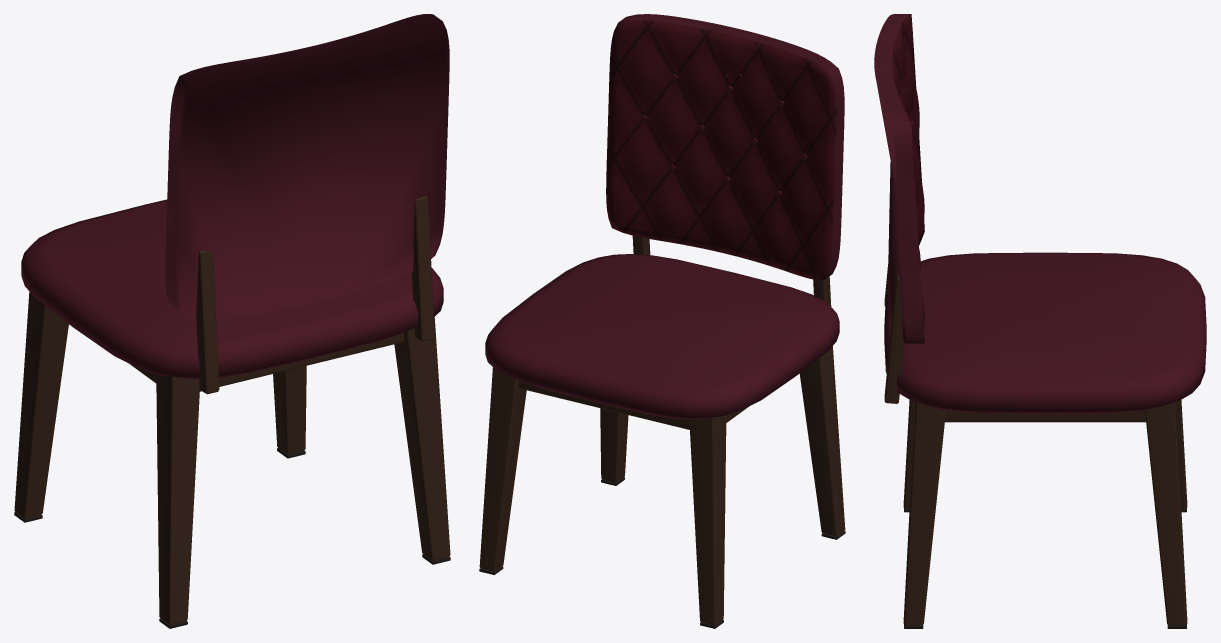
The model's file is cadeira_carteado_capitone.glb.
The picture shows the model from 3 angles, left to right: view 1: azimuth 30°, elevation 25°; view 2: azimuth 150°, elevation 25°; view 3: azimuth 270°, elevation 25°; orthographic projection. The views are drawn at different scales.
Parts seen in each view (by area): view 1: Encosto alto para -Y, Assento a 50 cm, Pe de madeira, Pe de madeira.002, Pe de madeira.001, Suporte de madeira do encosto, Pe de madeira.003, Suporte de madeira do encosto.001, Saia transversal; view 2: Encosto alto para -Y, Assento a 50 cm, Pe de madeira.001, Pe de madeira.003, Pe de madeira, Pe de madeira.002, Saia transversal.001; view 3: Assento a 50 cm, Encosto alto para -Y, Pe de madeira.002, Pe de madeira.003, Saia lateral.001, Suporte de madeira do encosto.001, Pe de madeira, Pe de madeira.001.
Boxes of the visible parts, x1,y1,x2,y2 form: Encosto alto para -Y: (165,14,449,319); Assento a 50 cm: (21,199,443,379); Pe de madeira: (156,374,199,624); Pe de madeira.002: (394,317,450,560); Pe de madeira.001: (14,291,68,518); Suporte de madeira do encosto: (196,250,219,394); Pe de madeira.003: (273,366,306,454); Suporte de madeira do encosto.001: (411,196,434,341); Saia transversal: (200,333,404,391); Encosto alto para -Y: (606,14,844,279); Assento a 50 cm: (485,254,839,419); Pe de madeira.001: (689,415,726,625); Pe de madeira.003: (479,367,526,571); Pe de madeira: (799,346,845,536); Pe de madeira.002: (600,408,628,482); Saia transversal.001: (518,380,689,429); Assento a 50 cm: (884,252,1206,413); Encosto alto para -Y: (874,14,924,343); Pe de madeira.002: (903,402,945,625); Pe de madeira.003: (1145,402,1187,625); Saia lateral.001: (945,410,1145,422); Suporte de madeira do encosto.001: (884,273,904,403); Pe de madeira: (903,400,915,508); Pe de madeira.001: (1175,400,1187,508).
Size of the model in its own units: 0.6 by 1 by 0.598.
Materials: 4 (1 with a texture image).
